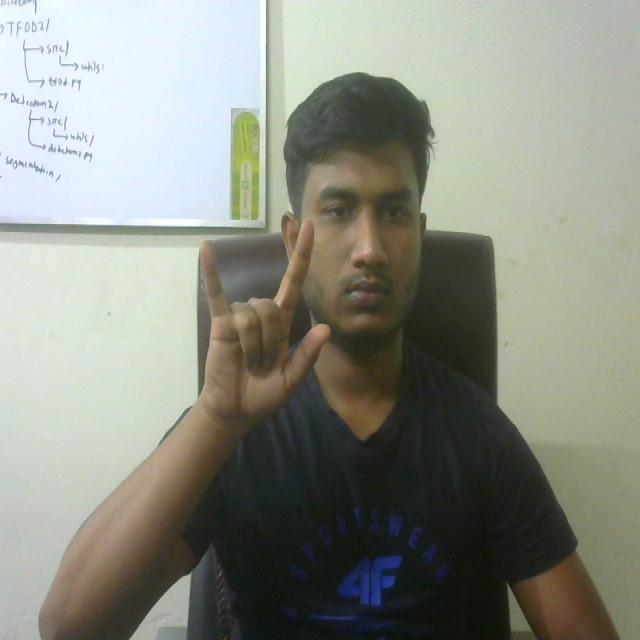I Love You: (184, 211, 341, 443)
